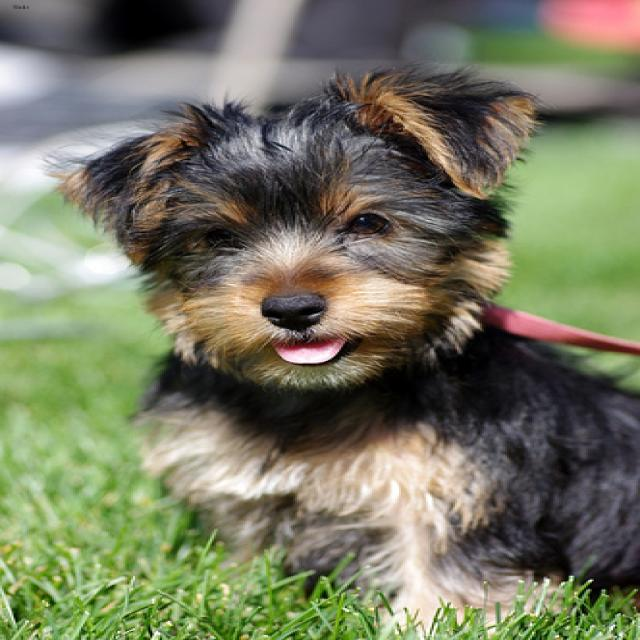dog-yorkshire_terrier: (27, 54, 636, 637)
